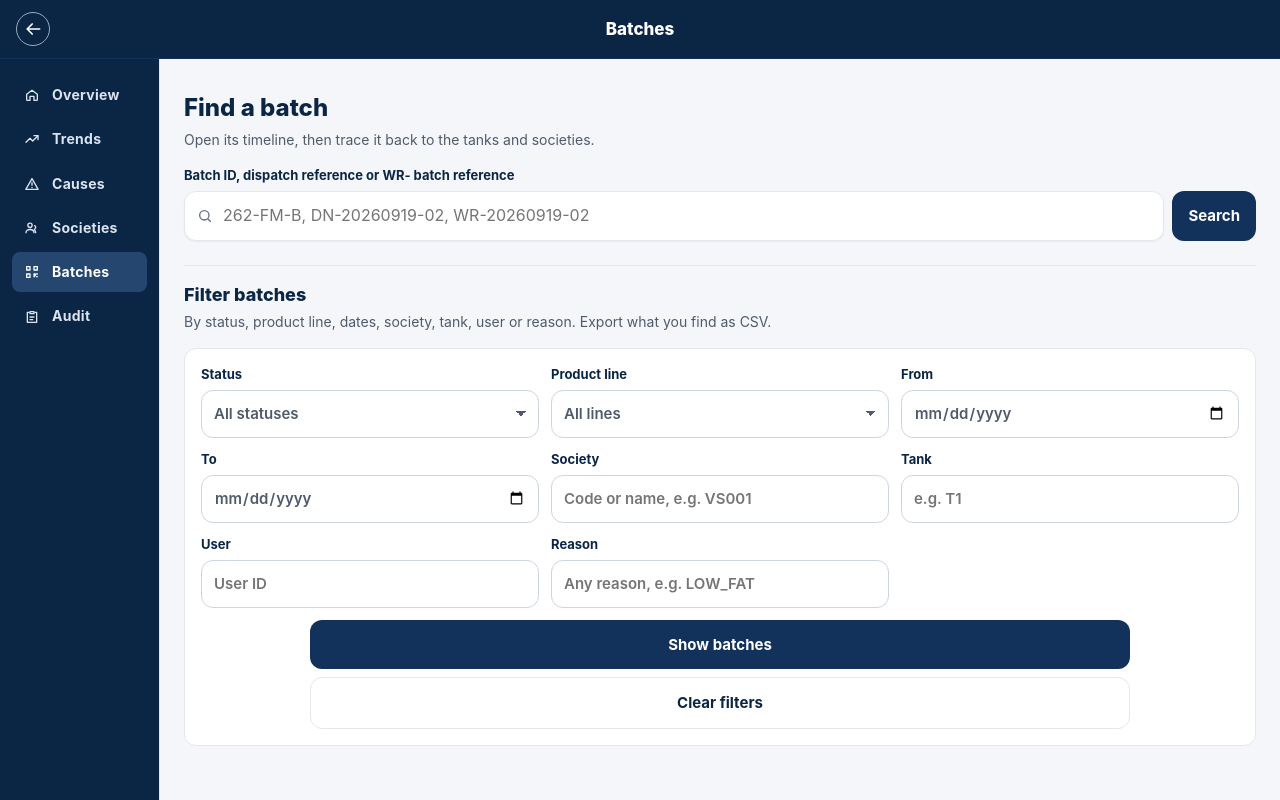
the batch search form (SCRUM-137) › shows a failing service as an error
Type "DN-20260919-02" into the search field labelled "Batch ID, dispatch reference or WR- batch reference".
click(686, 216); type("DN-20260919-02")  # box [221,203,1152,228]
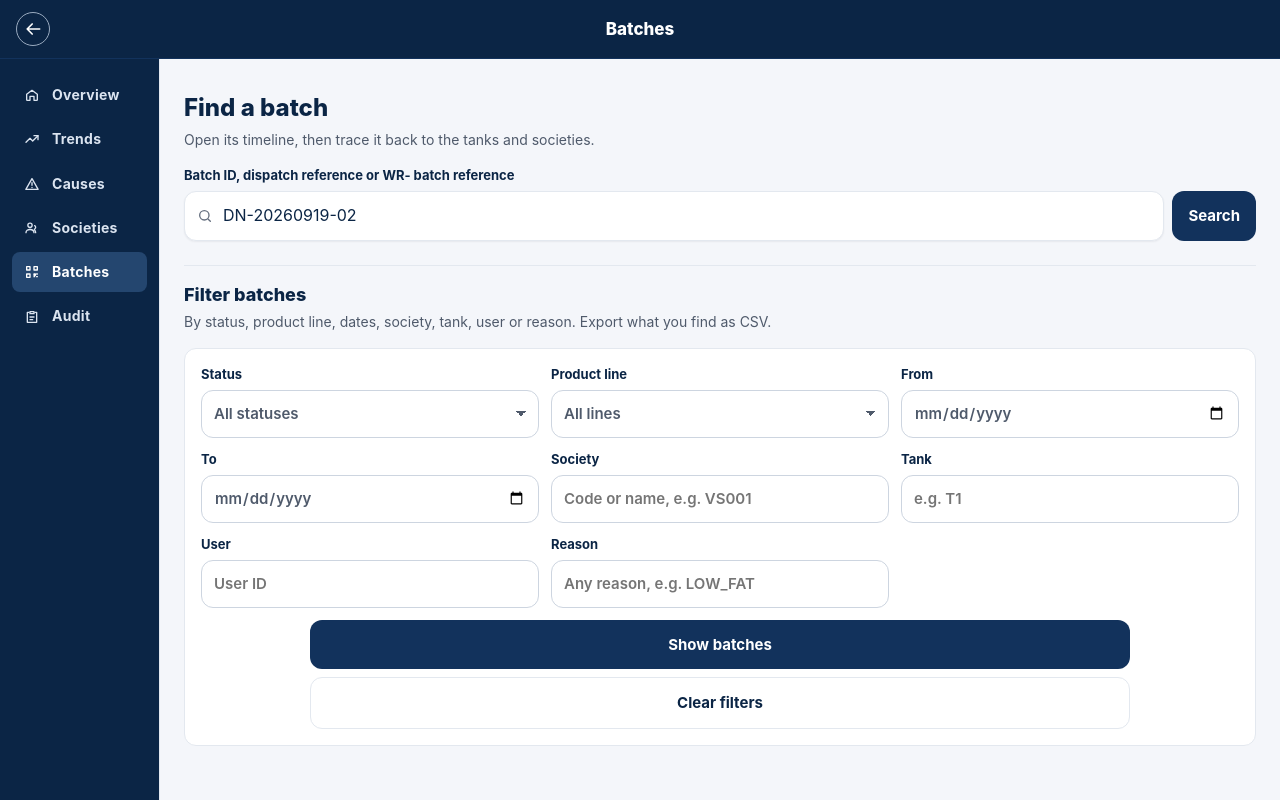
Click the button "Search".
click(1214, 216)  # box [1172,191,1256,241]
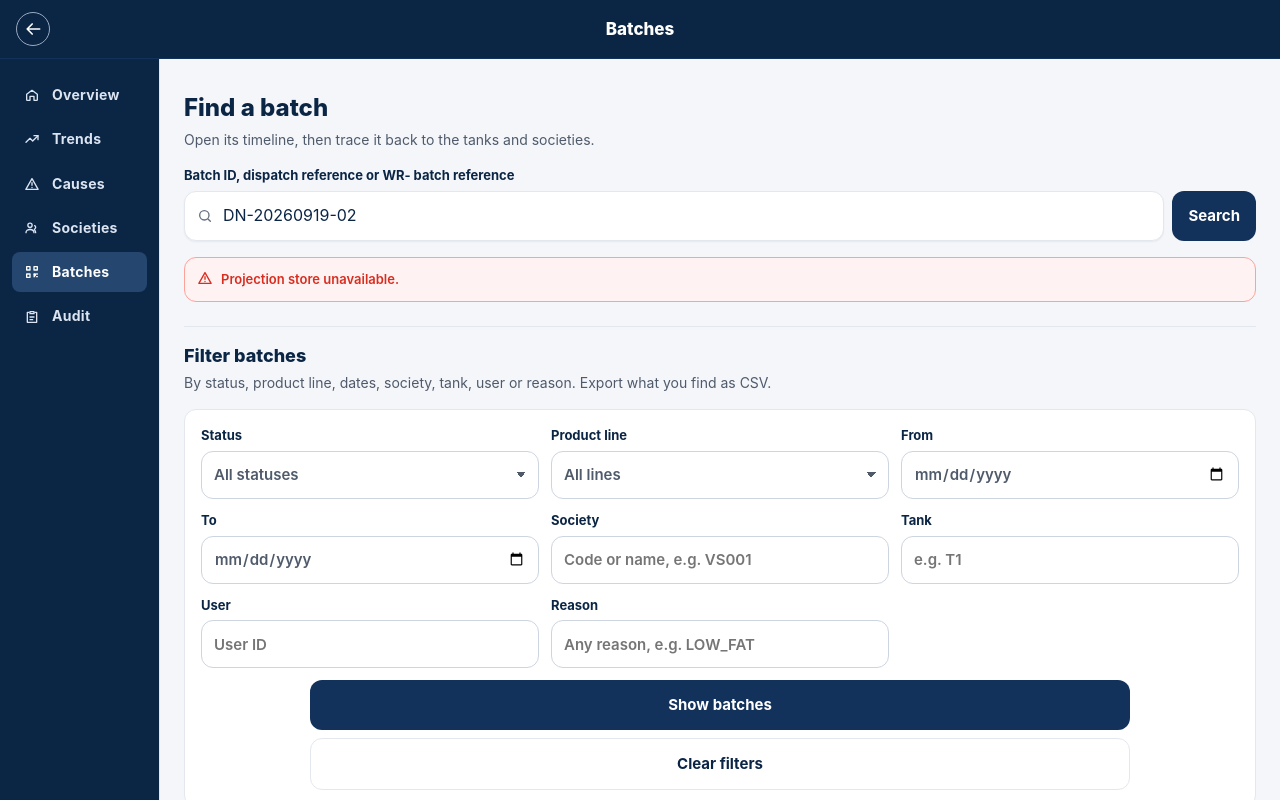
Expected: the message reads "Projection store unavailable.", [221,271,399,287]
